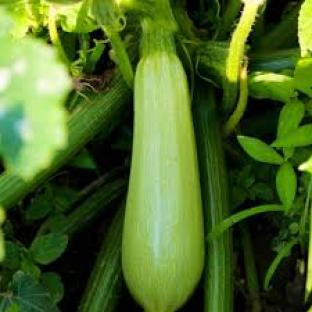Zucchini: (123, 19, 203, 311), (0, 74, 131, 209), (193, 80, 230, 232), (78, 208, 124, 311)
